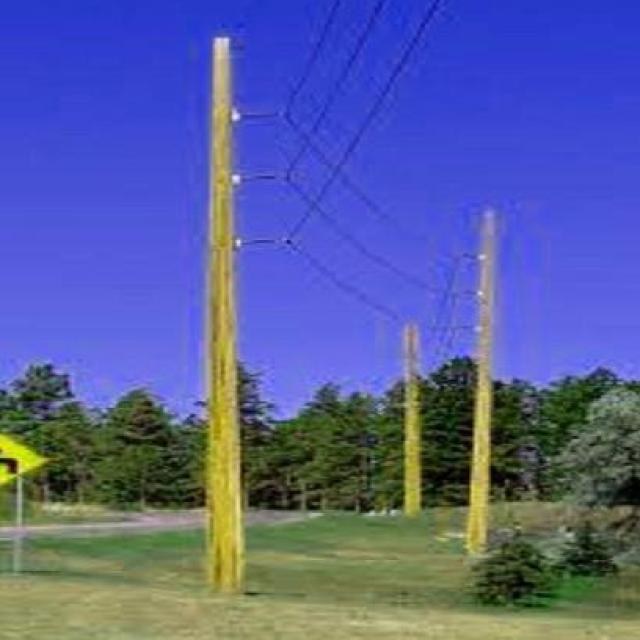non-critical vegetation: (182, 22, 303, 596)
